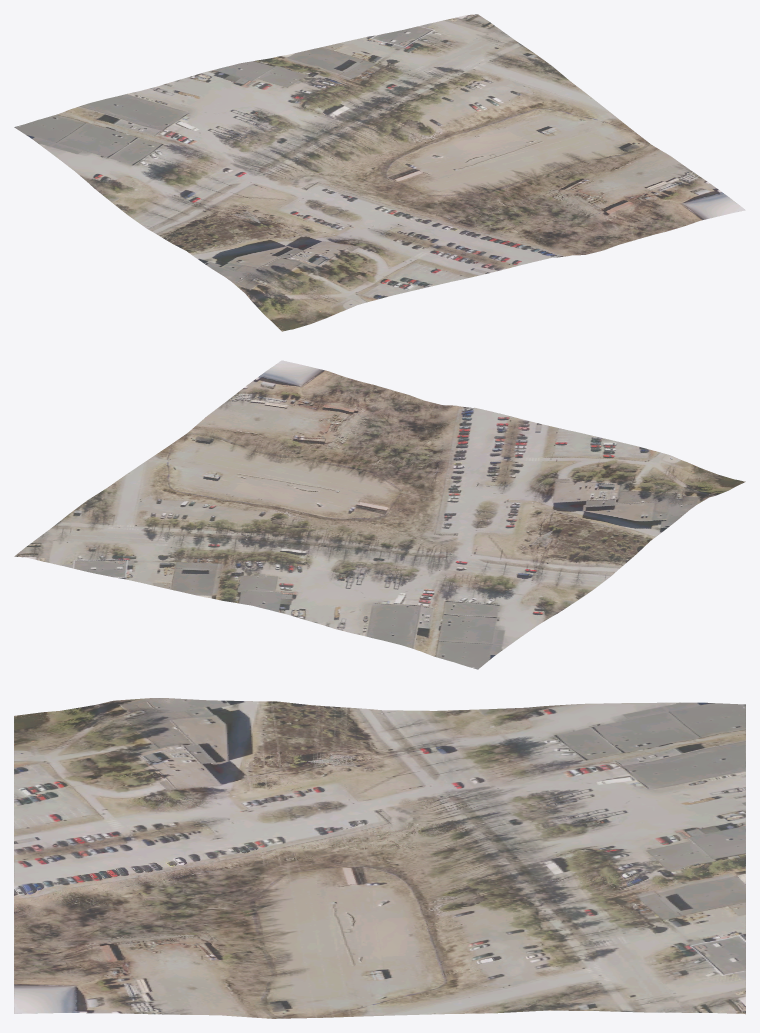
File: CM_Terrain_24492302_6816517.fbx
3 renders of one model, top to bottom at view 1: azimuth 30°, elevation 25°; view 2: azimuth 150°, elevation 25°; view 3: azimuth 270°, elevation 25°, orthographic. The views are drawn at different scales.
Parts seen in each view (by area): view 1: CM_Terrain_24492302_6816517_LOD0; view 2: CM_Terrain_24492302_6816517_LOD0; view 3: CM_Terrain_24492302_6816517_LOD0.
Boxes of the visible parts, x1,y1,x2,y2 form: CM_Terrain_24492302_6816517_LOD0: (14, 14, 745, 331); CM_Terrain_24492302_6816517_LOD0: (14, 360, 745, 669); CM_Terrain_24492302_6816517_LOD0: (14, 698, 745, 1018).
Size of what is drawn, in the model's own units: 205 by 7.7 by 205.
